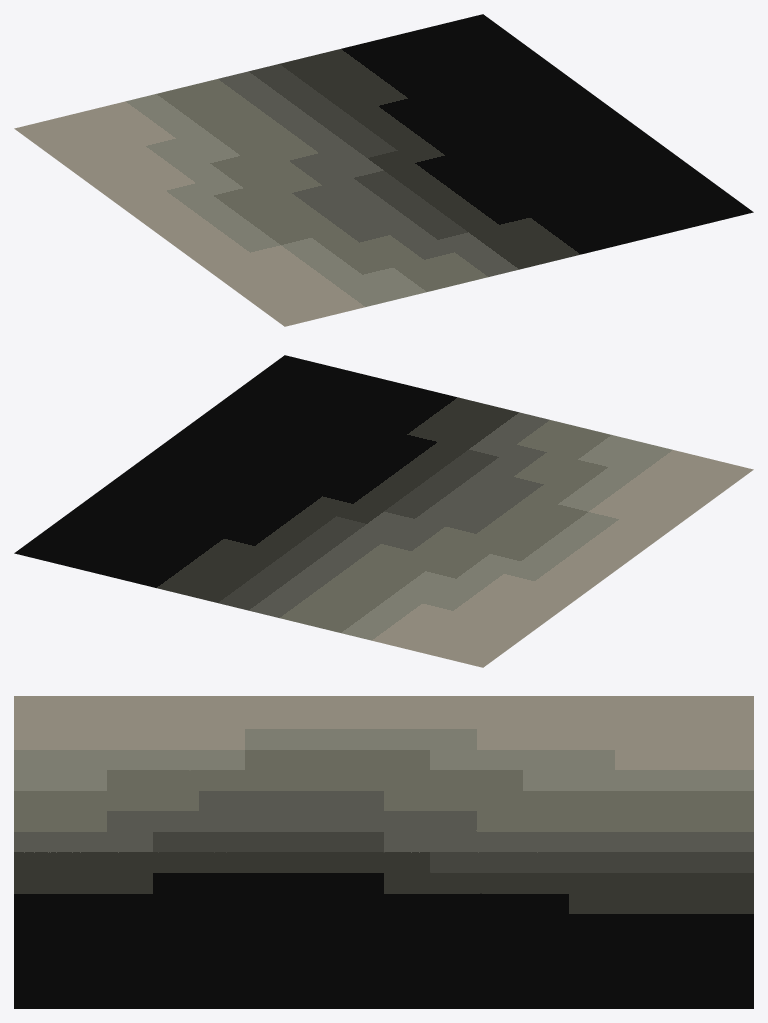
The picture shows the model from 3 angles, top to bottom: view 1: azimuth 30°, elevation 25°; view 2: azimuth 150°, elevation 25°; view 3: azimuth 270°, elevation 25°; orthographic projection. The views are drawn at different scales.
Bounding box in the file's own units: 1 × 0 × 1.
Materials: 1 (1 with a texture image).
